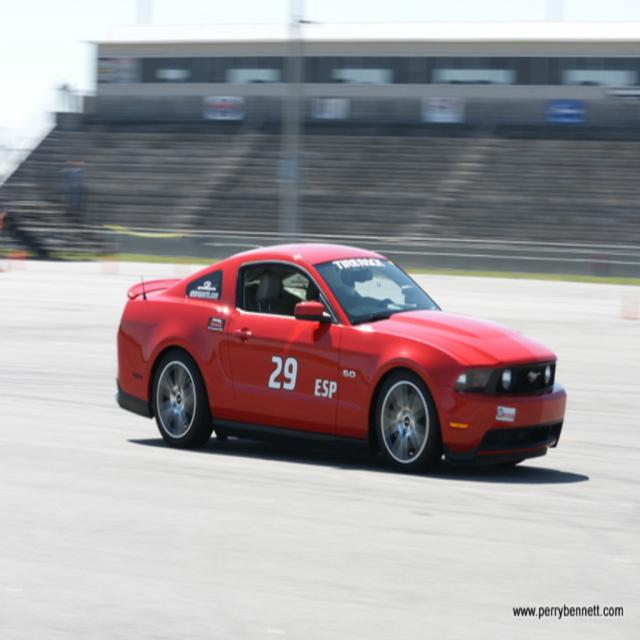car: (116, 238, 566, 477)
